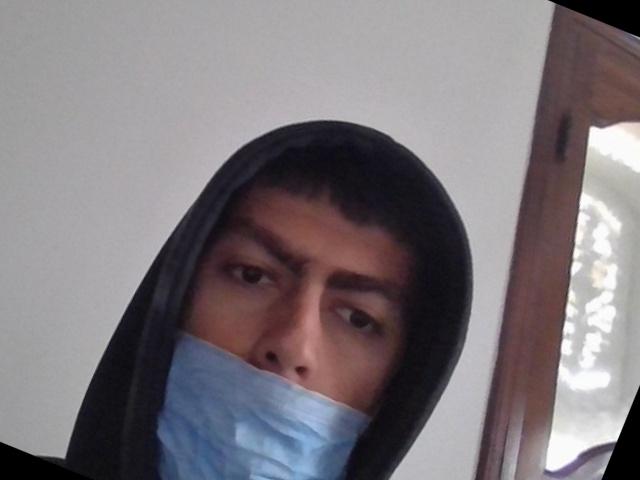mask_weared_incorrect: (155, 147, 413, 479)
